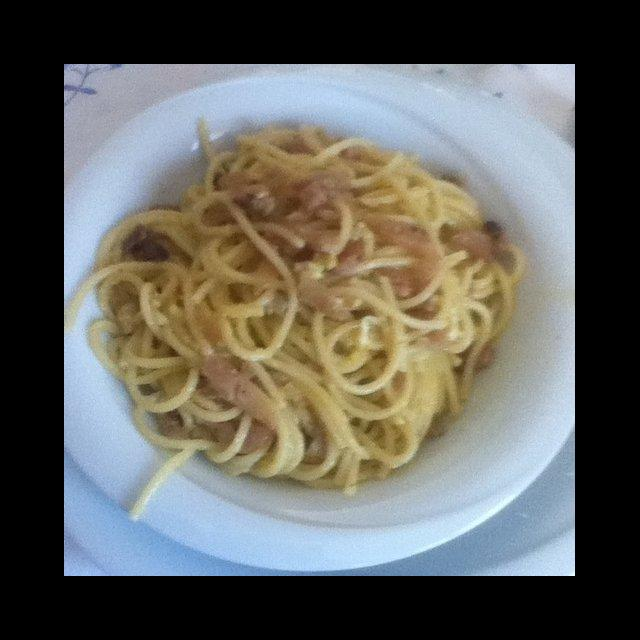noodles: (64, 115, 526, 521)
